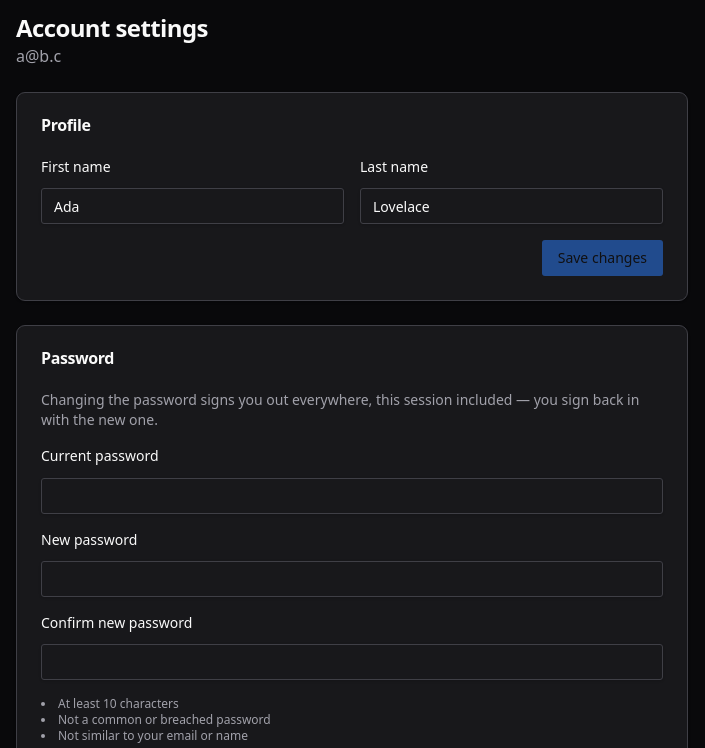
AccountPage › surfaces an errors[] entry it does not own as a form-level alert
Replace the text in the field labelled "First name" with "Augusta" at point(192, 206), box [41,188,344,224]
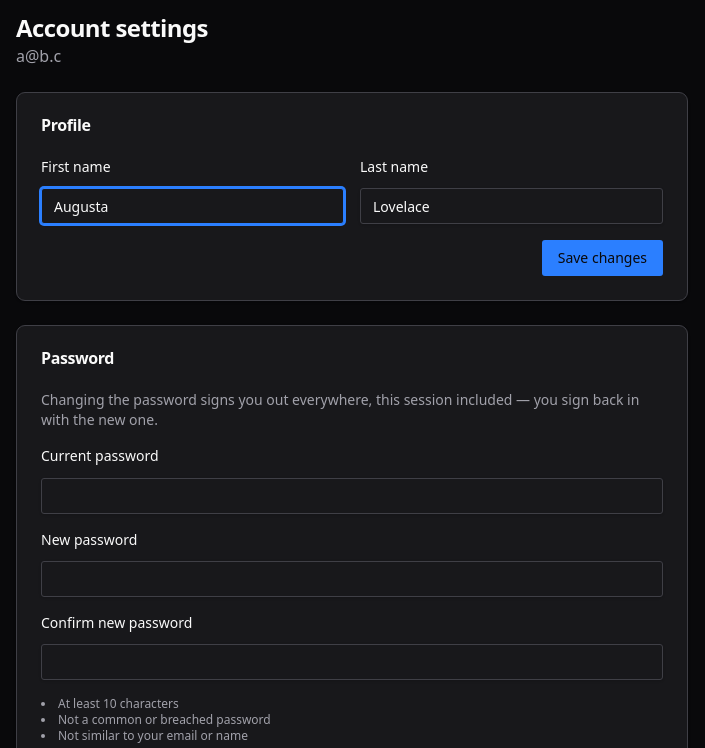
Click the button "Save changes".
click(602, 258)  # box [542,240,663,276]
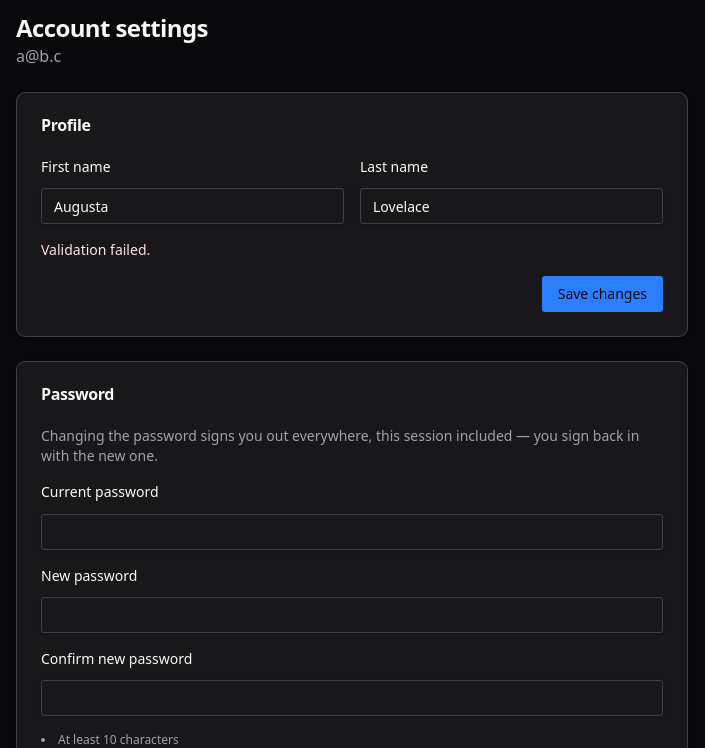
Now the message reads "Validation failed.", box [41,240,150,259]
